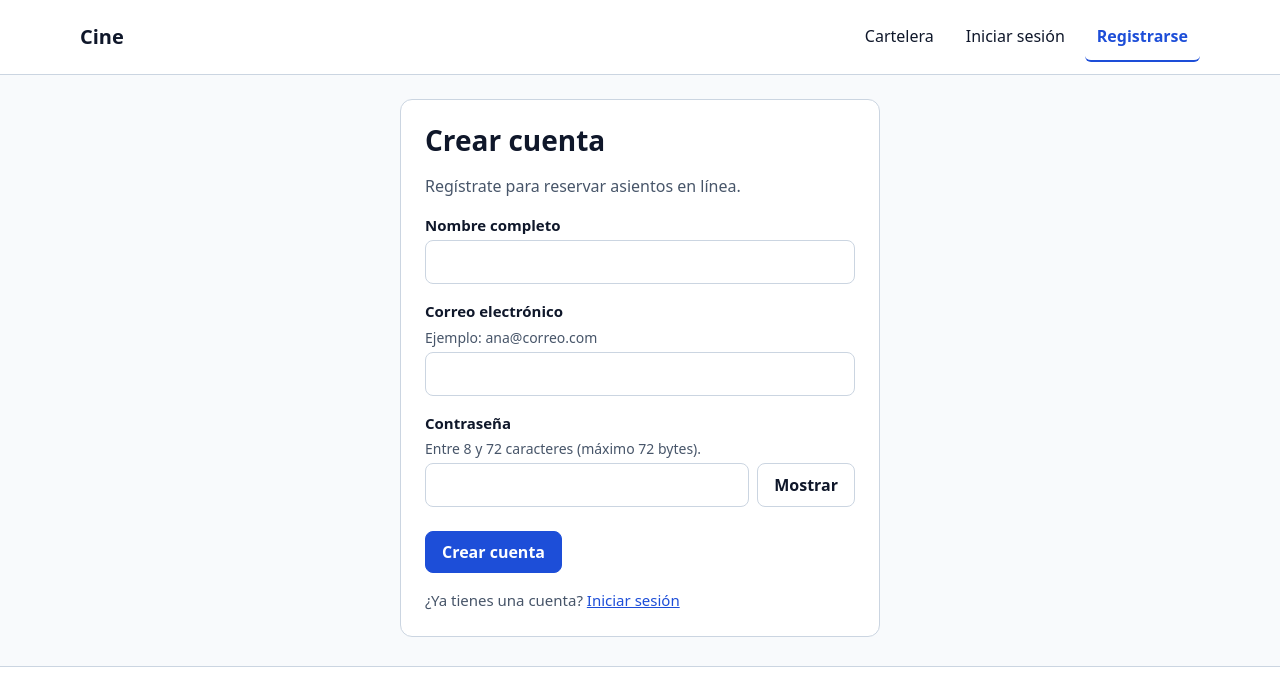
Test: Auth feature flows › registers a new account, validates byte length, and handles 409 EMAIL_TAKEN
Expected: the heading "Crear cuenta" is shown, top-left (425, 121), bottom-right (605, 159)
Type "Ana García" into the field labelled "Nombre completo" at (640, 262), box top-left (425, 240), bottom-right (855, 284)
Type "ana@cine.local" into the field labelled "Correo electrónico" at (640, 374), box top-left (425, 352), bottom-right (855, 396)
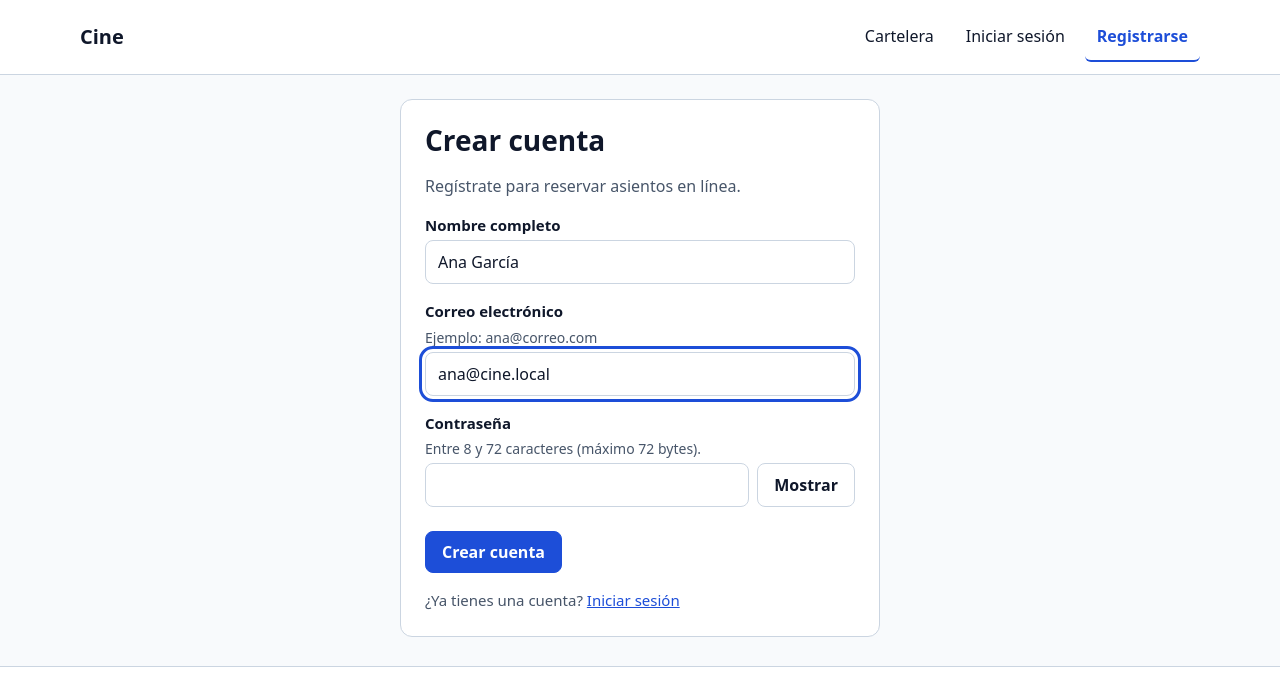
Type "short" into the password field labelled "Contraseña" at (587, 485), box top-left (425, 463), bottom-right (749, 507)
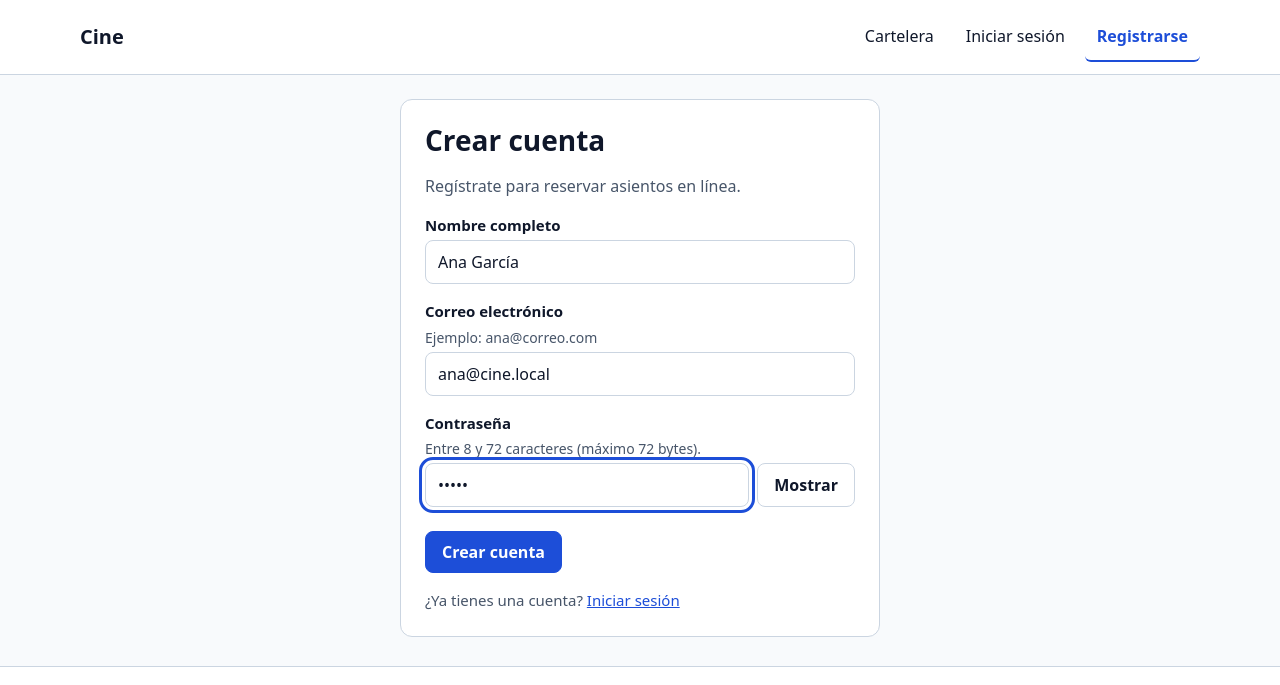
Press Tab
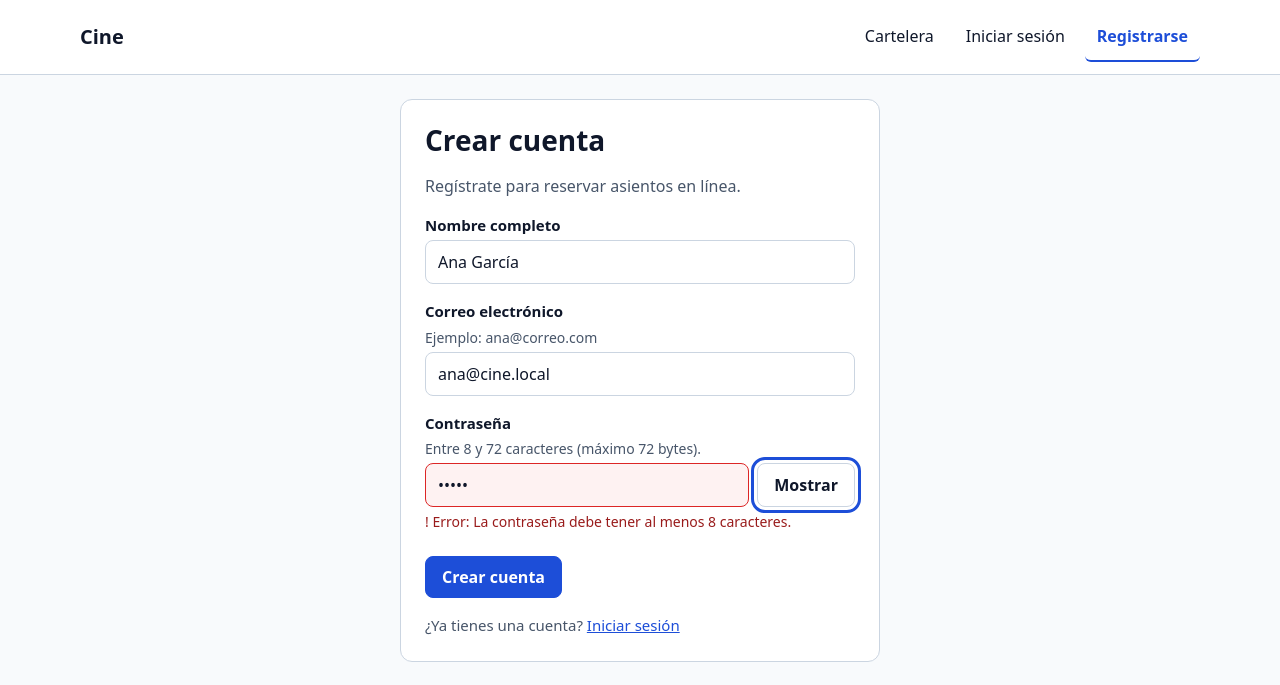
Type "SecurePass1!" into the password field labelled "Contraseña" at (587, 485), box top-left (425, 463), bottom-right (749, 507)
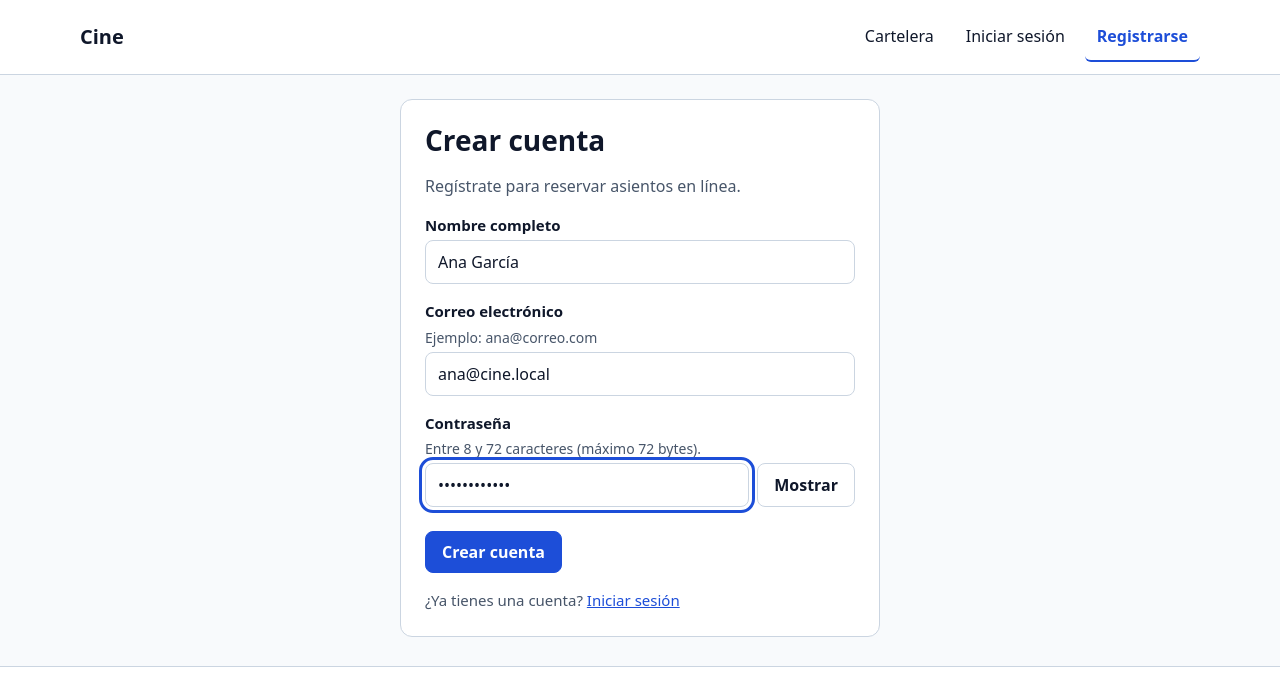
Click the button "Crear cuenta" at (494, 552), box top-left (425, 531), bottom-right (562, 573)
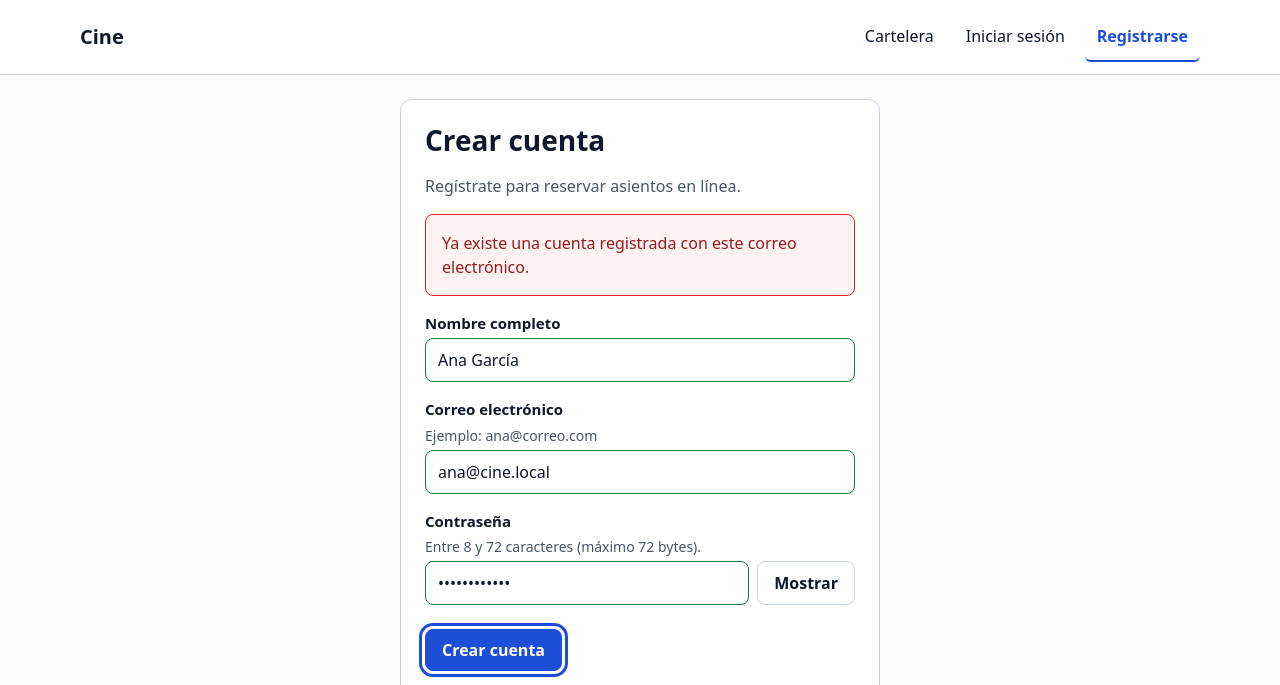
Expected: the message reads "Ya existe una cuenta registrada con este correo electrónico.", top-left (442, 232), bottom-right (797, 278)
Click the button "Crear cuenta" at (494, 650), box top-left (425, 629), bottom-right (562, 671)
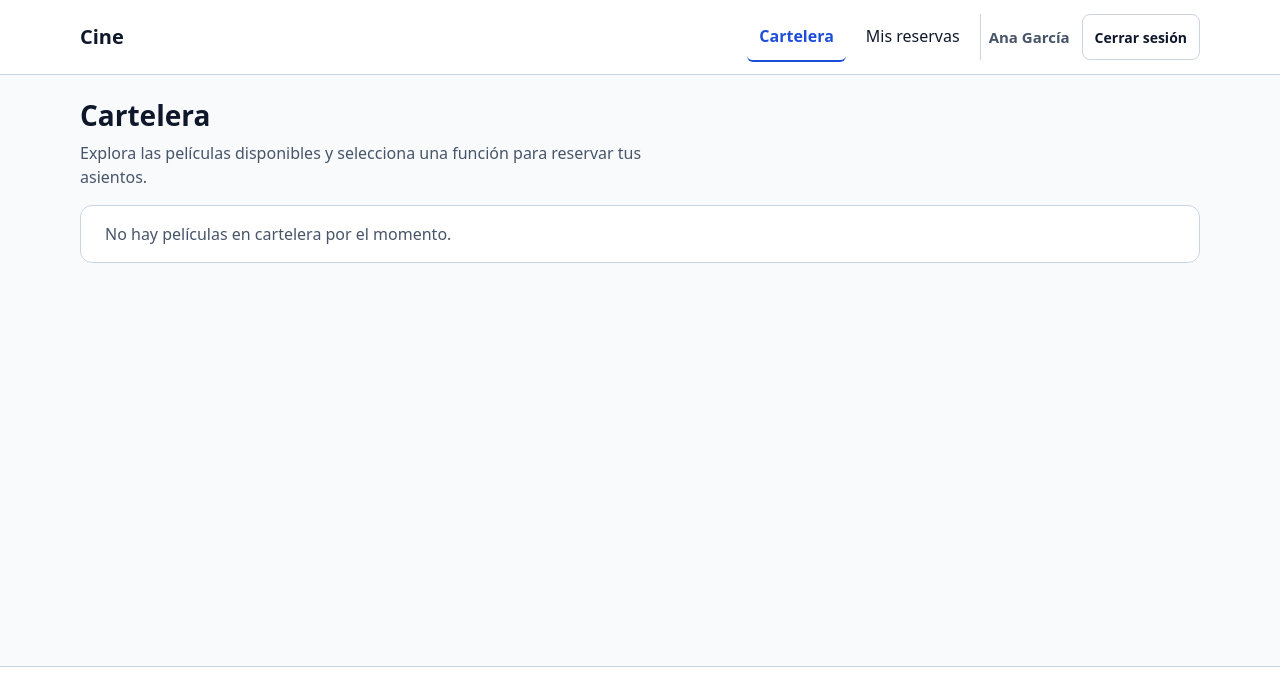
Expected: the heading "Cartelera" is shown, top-left (80, 96), bottom-right (210, 134)
